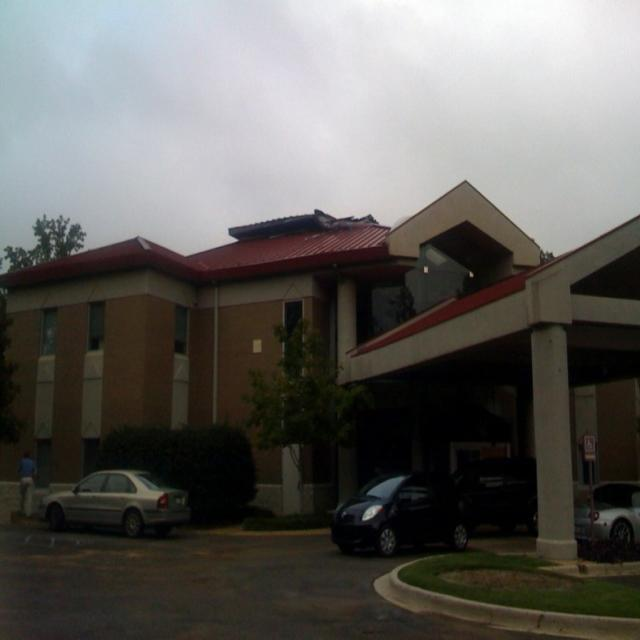car: (329, 473, 469, 564), (40, 470, 190, 539)
